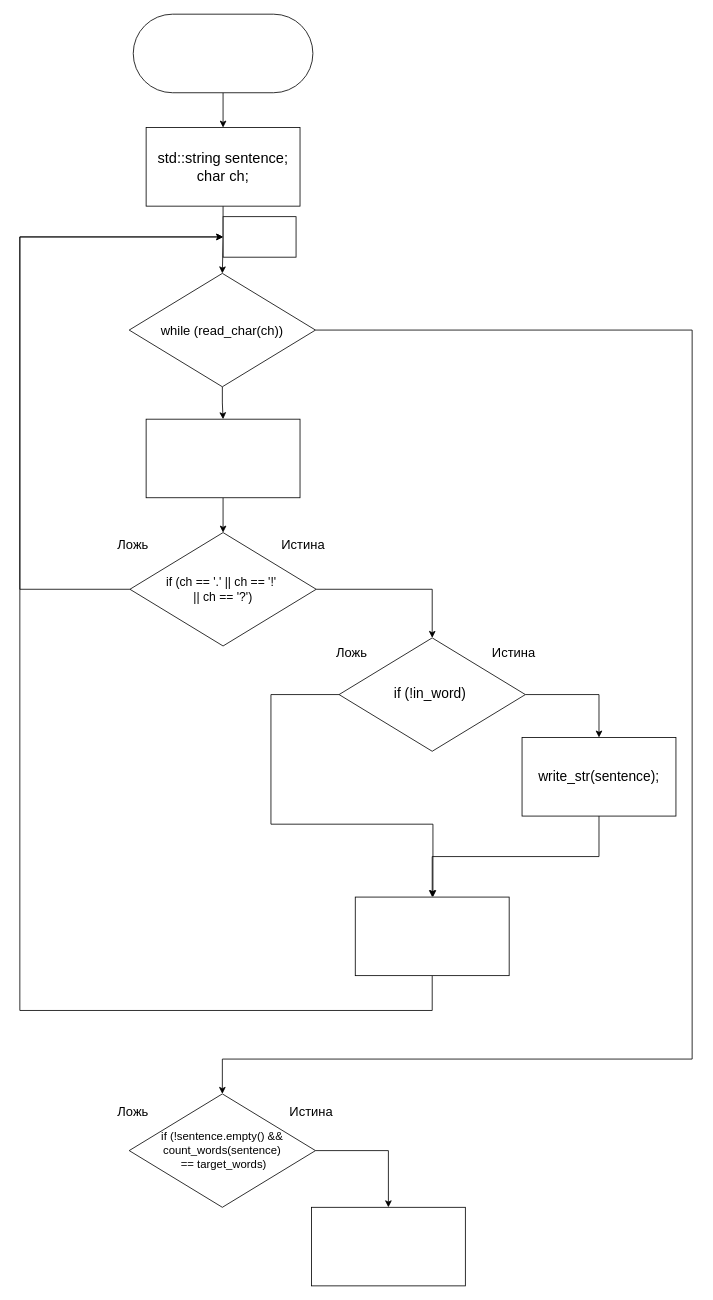
Some shapes in this 713 by 1300 pixel diagram are drawn without their labels. The centre of each missing label's shape, as x and y in pixels:
"sentence.clear();" belongs at point 431,936.
"sentence.push_back(ch);" belongs at point 222,458.
"void filter_sentences(ReadFunc read_char, WriteFunc write_str, int target_words)" belongs at point 222,53.
